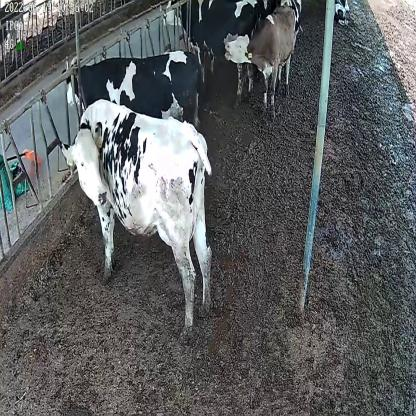cow: (59, 98, 214, 346), (59, 51, 206, 126), (161, 0, 261, 101), (223, 4, 298, 119), (333, 0, 351, 25)
